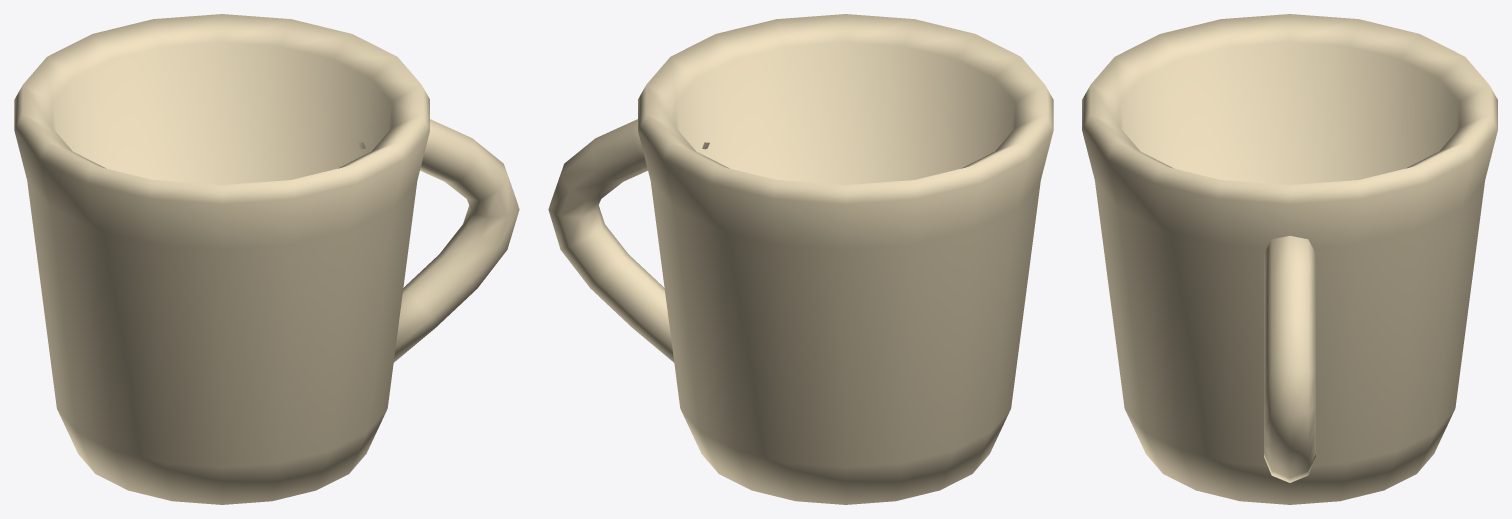
The model's file is personal_mug.glb.
3 renders of one model, left to right at view 1: azimuth 30°, elevation 25°; view 2: azimuth 150°, elevation 25°; view 3: azimuth 270°, elevation 25°, orthographic.
Visible parts, largest first — view 1: Thrown ceramic cup, Porcelain handle; view 2: Thrown ceramic cup, Porcelain handle; view 3: Thrown ceramic cup, Porcelain handle.
Boxes of the visible parts, x1,y1,x2,y2 form: Thrown ceramic cup: (14,14,429,504); Porcelain handle: (358,119,519,362); Thrown ceramic cup: (638,14,1053,504); Porcelain handle: (548,119,709,362); Thrown ceramic cup: (1082,14,1497,504); Porcelain handle: (1264,236,1315,482).
Bounding box in the file's own units: 0.128 × 0.088 × 0.0965.
